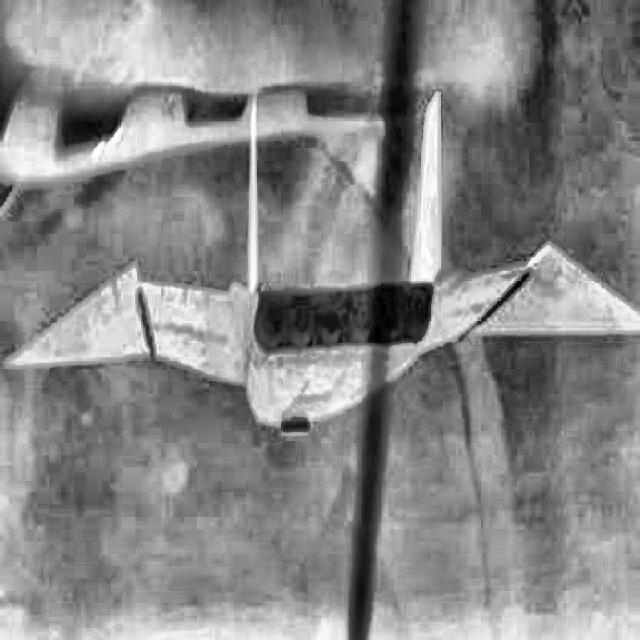XB70: (3, 93, 640, 430)
